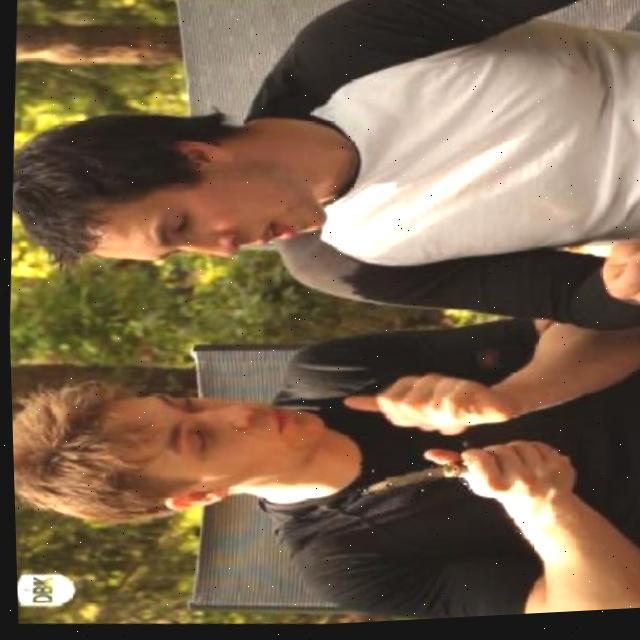knife: (354, 461, 468, 502)
